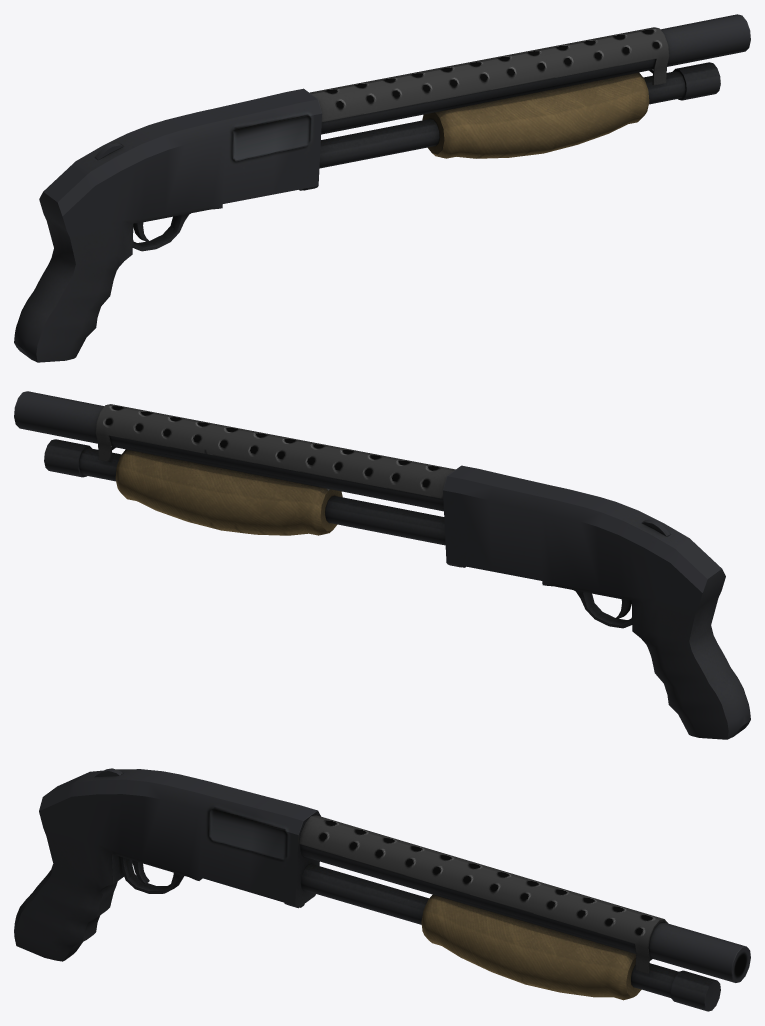
Rendered from shotgun_000018.obj.
3 views of the same model, one above another, from view 1: azimuth 30°, elevation 25°; view 2: azimuth 150°, elevation 25°; view 3: azimuth 330°, elevation 25° (orthographic).
Visible parts, largest first — view 1: mesh_Cube.001; view 2: mesh_Cube.001; view 3: mesh_Cube.001.
Part boxes in pixels (x1,y1,x2,y2): mesh_Cube.001: (14, 14, 750, 362); mesh_Cube.001: (14, 391, 750, 739); mesh_Cube.001: (14, 768, 750, 1011).
Bounding box in the file's own units: 1.91 × 0.513 × 0.1708.
Materials: 1 (1 with a texture image).
